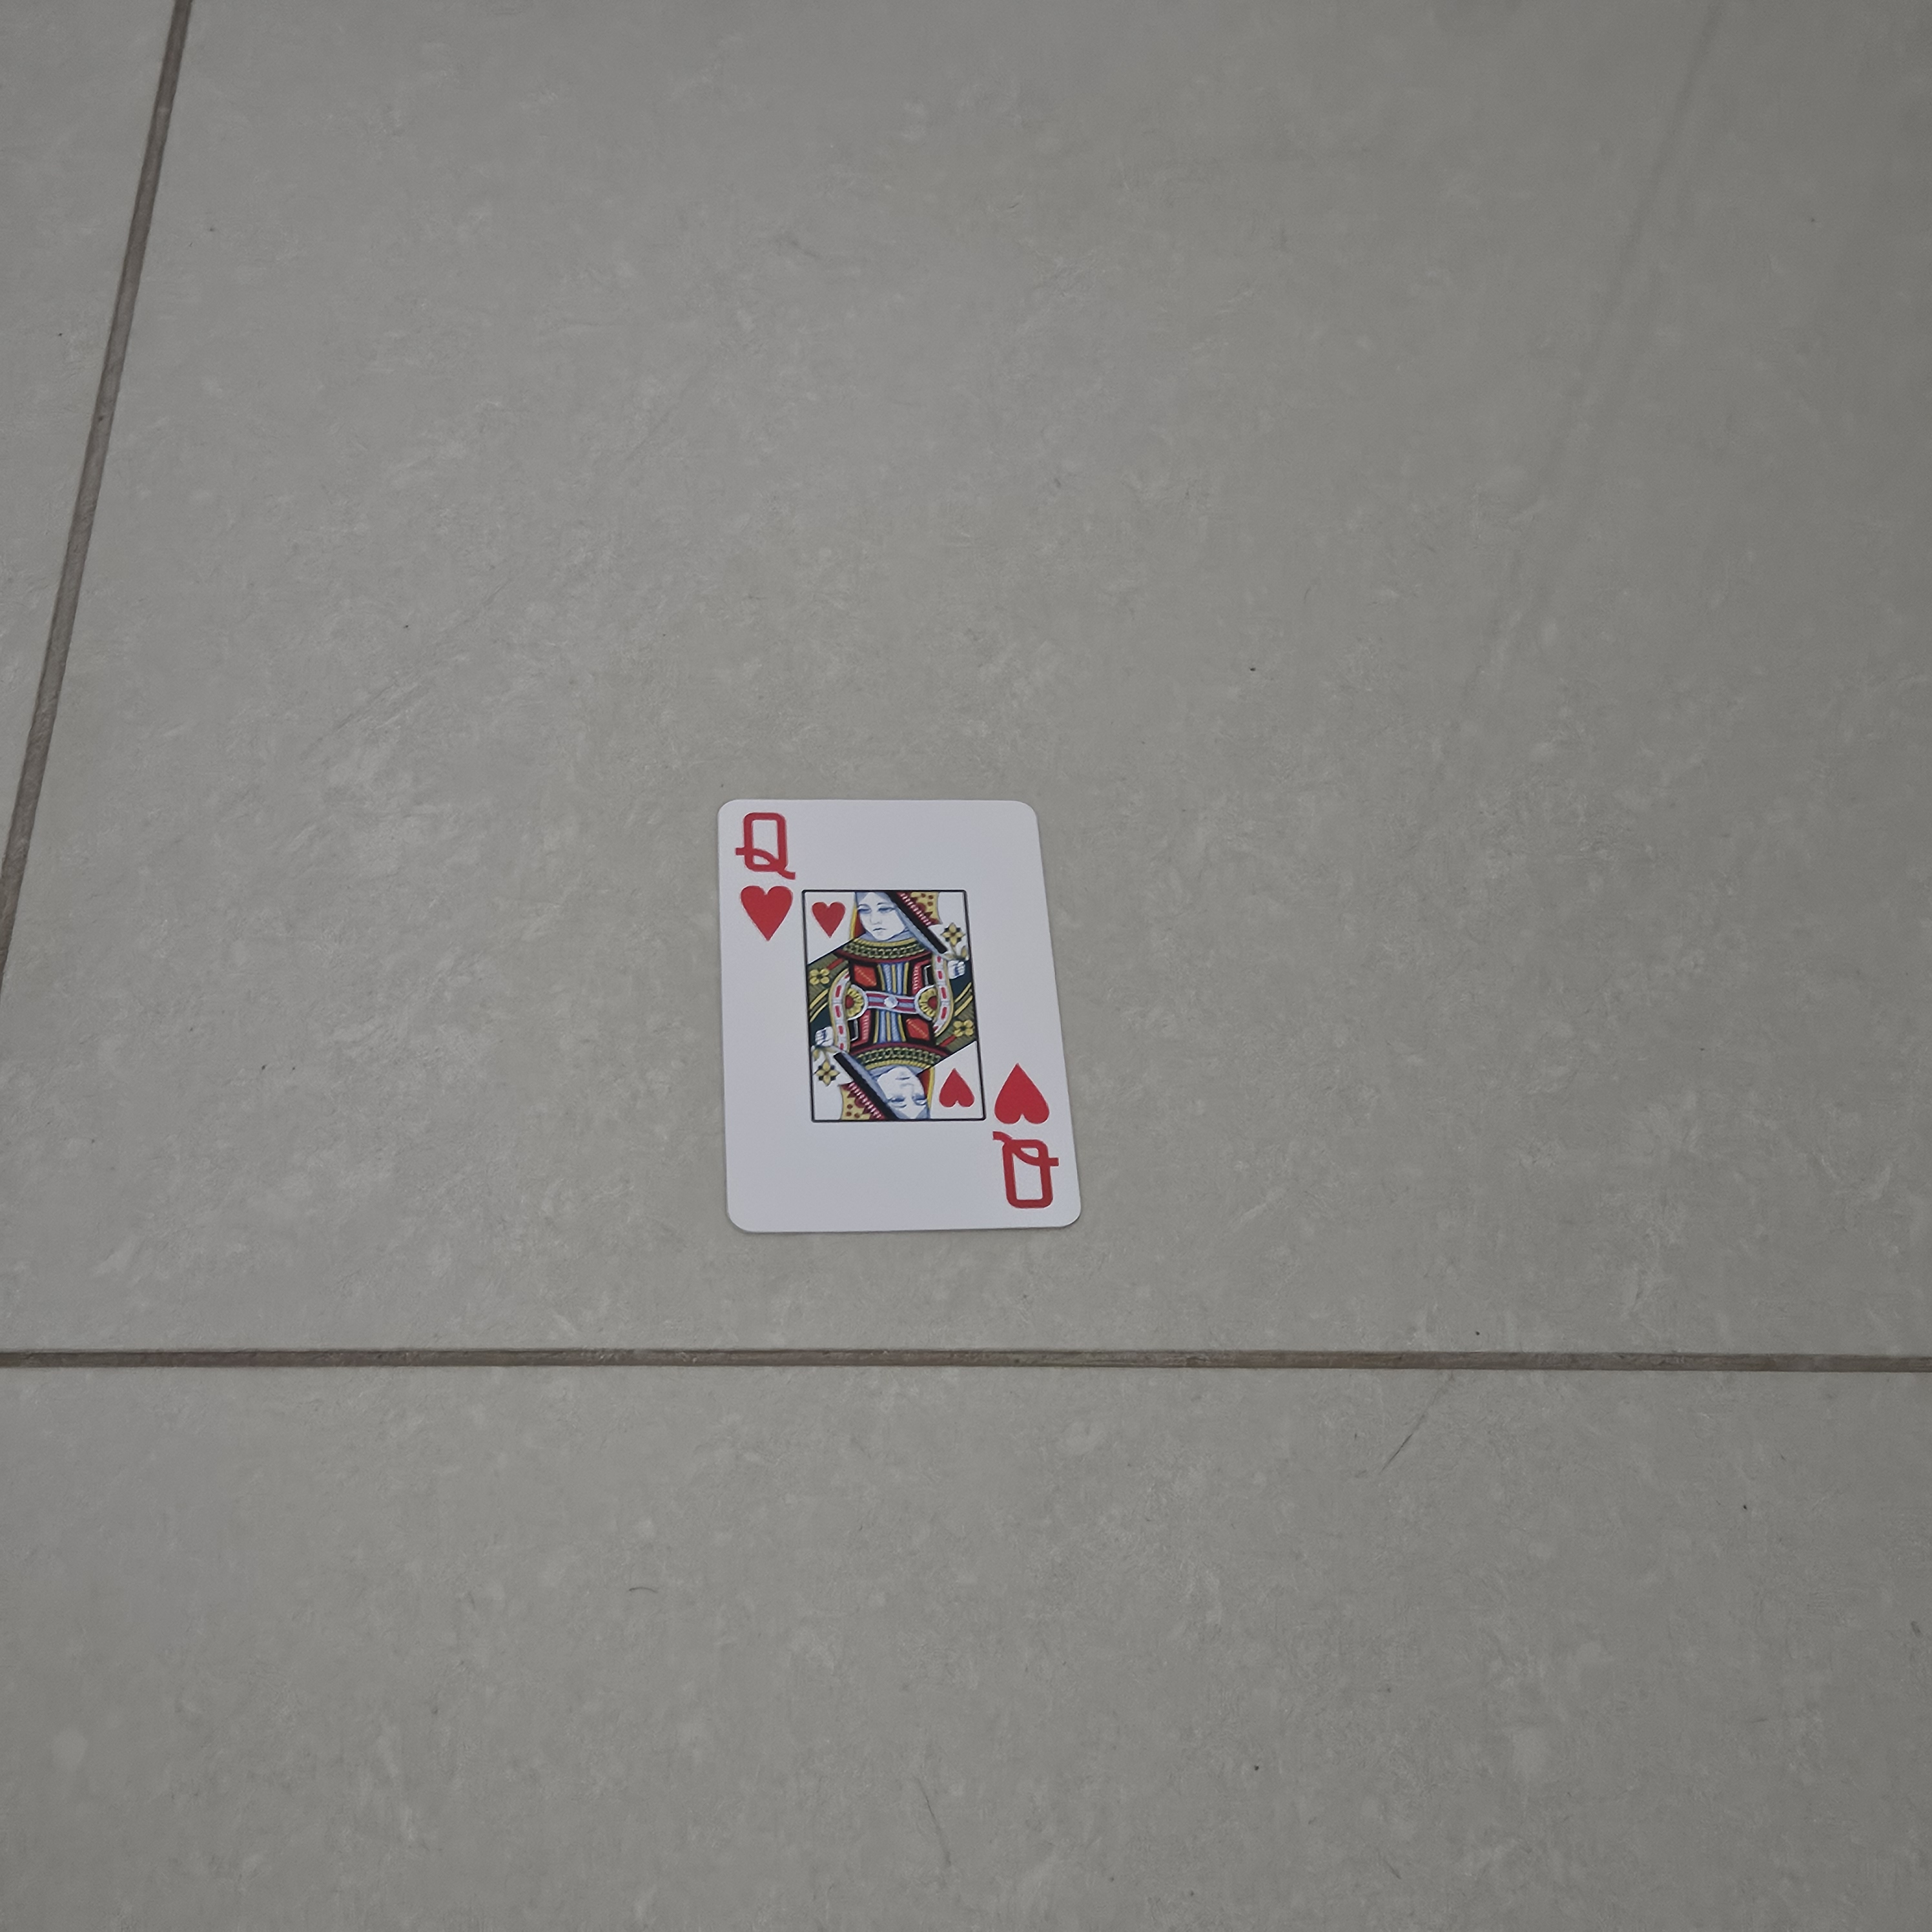QC: (984, 1053, 1070, 1221), (724, 801, 805, 952)
